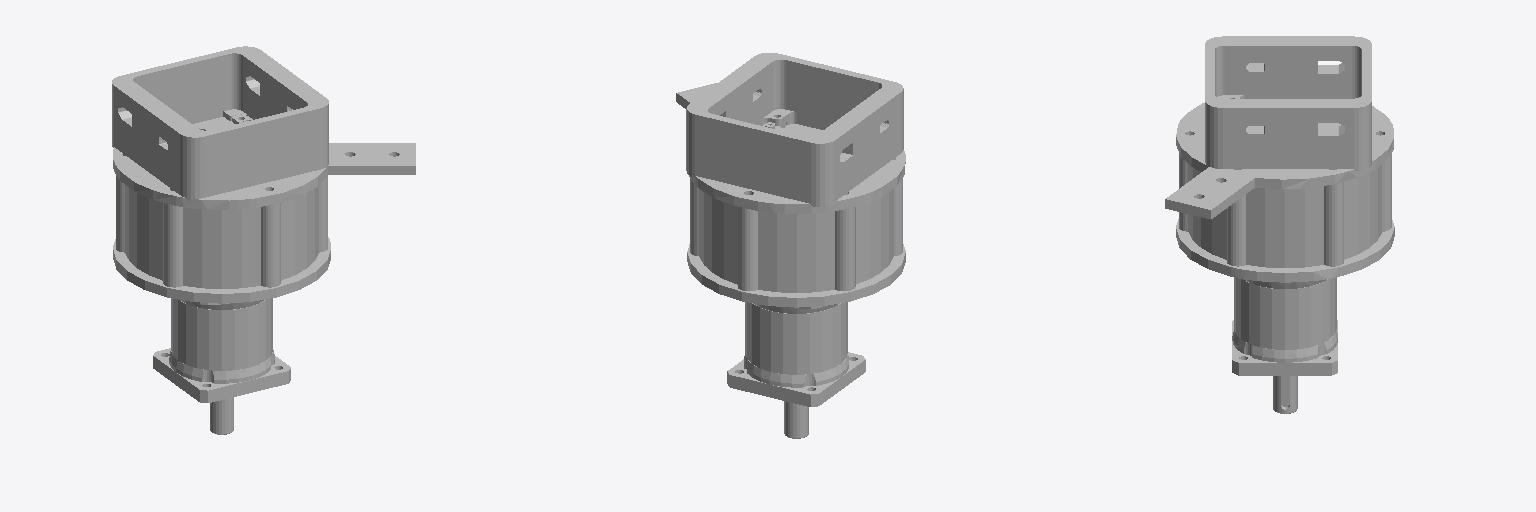
File: drivetrainbackrightcomposite.obj
3 renders of one model, left to right at view 1: azimuth 30°, elevation 25°; view 2: azimuth 150°, elevation 25°; view 3: azimuth 270°, elevation 25°, orthographic.
Visible parts, largest first — view 1: obj_[number redacted]; view 2: obj_[number redacted]; view 3: obj_[number redacted].
Boxes of the visible parts, <box> form: obj_[number redacted]: <box>112,46,415,434</box>; obj_[number redacted]: <box>676,53,905,438</box>; obj_[number redacted]: <box>1165,36,1394,413</box>.
Bounding box in the file's own units: 0.1649 × 0.2108 × 0.1301.